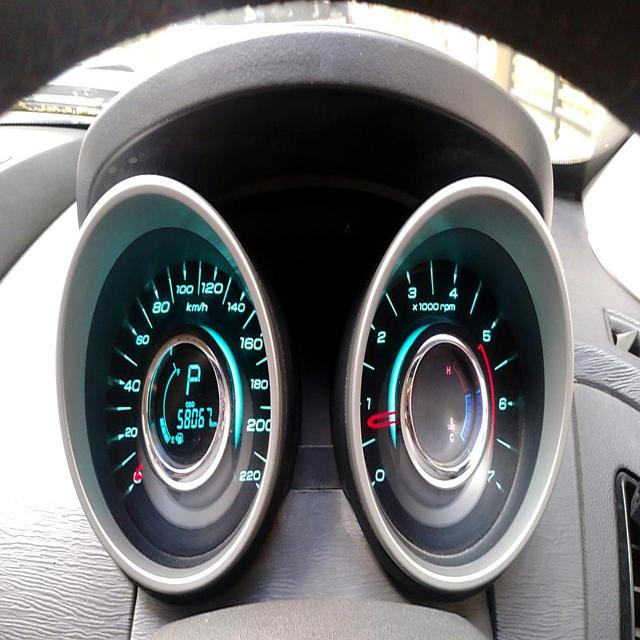odometer: (173, 406, 213, 430)
